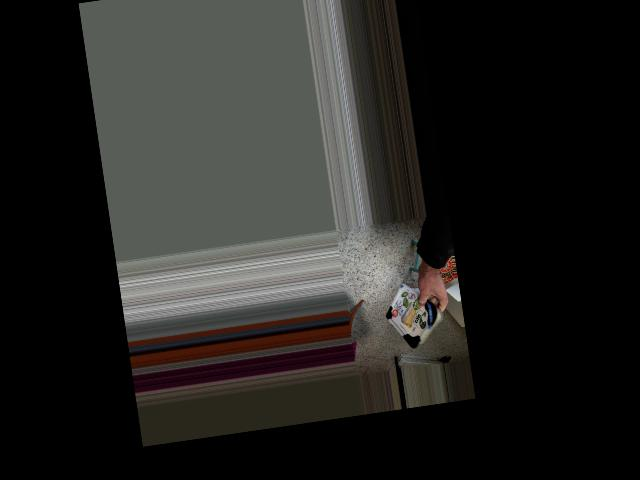cheese: (376, 287, 457, 350)
